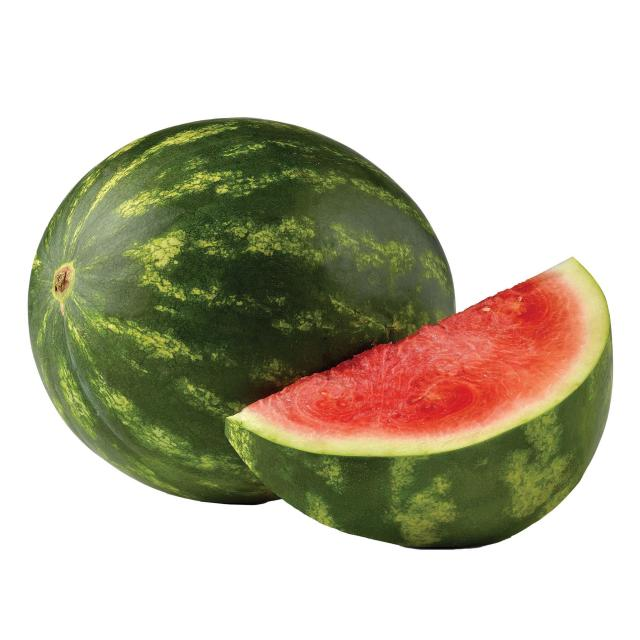watermelon: (26, 111, 466, 513), (219, 247, 615, 555)
